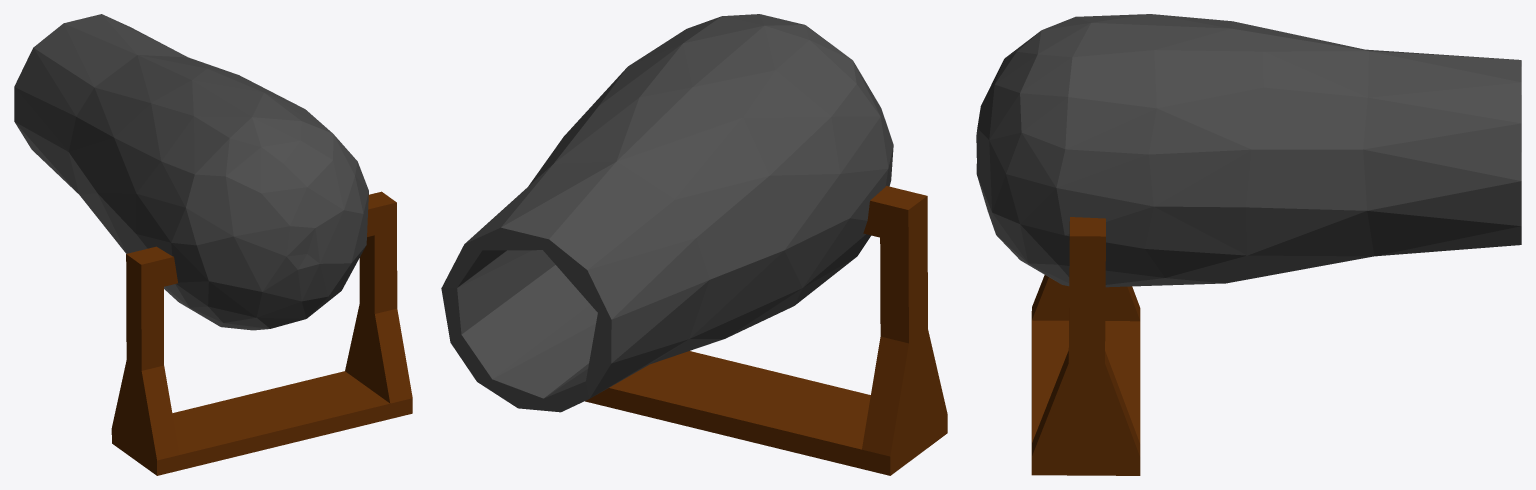
Rendered from Cannon.fbx.
3 renders of one model, left to right at view 1: azimuth 30°, elevation 25°; view 2: azimuth 150°, elevation 25°; view 3: azimuth 270°, elevation 25°, orthographic. The views are drawn at different scales.
Visible parts, largest first — view 1: Cannon; view 2: Cannon; view 3: Cannon.
Part boxes in pixels (x1,y1,x2,y2): Cannon: [14, 14, 412, 475]; Cannon: [441, 14, 947, 475]; Cannon: [976, 14, 1521, 475].
Bounding box in the file's own units: 682 × 795 × 1052.
